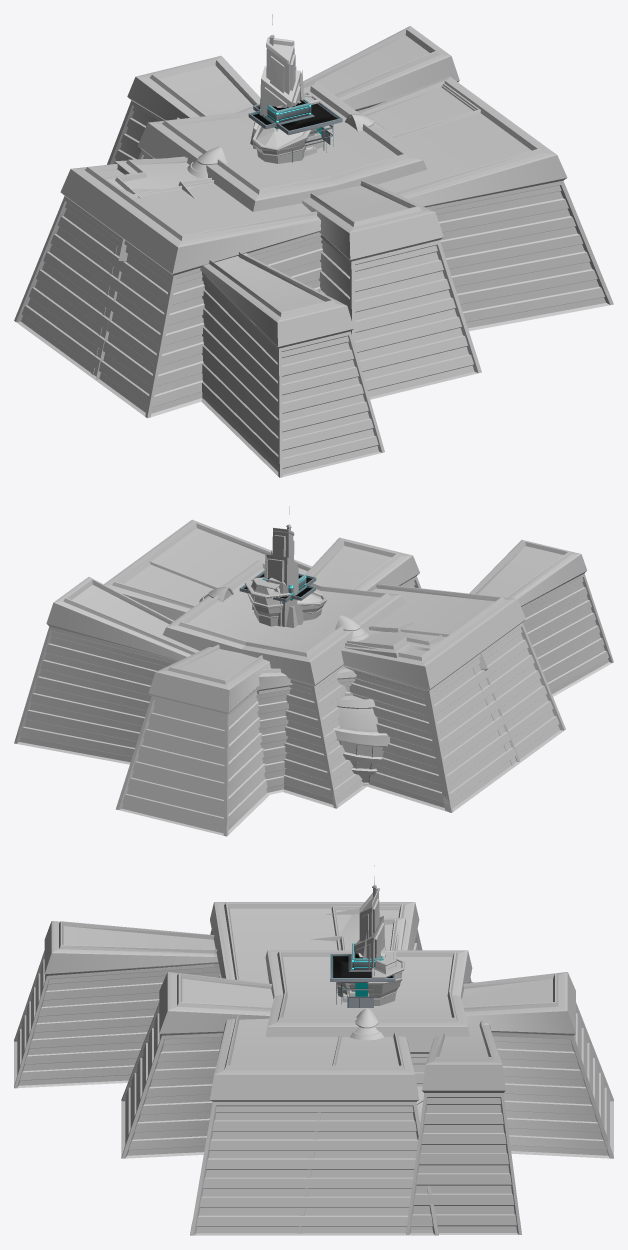
The model's file is Buildings_Collection.FBX.
3 renders of one model, top to bottom at view 1: azimuth 30°, elevation 25°; view 2: azimuth 150°, elevation 25°; view 3: azimuth 270°, elevation 25°, orthographic. The views are drawn at different scales.
Visible parts, largest first — view 1: Building_07, Building_08, Building_04, Building_09, Building_06, Building_Citadel_01, Building_15, Building_10, Building_05, Building_13; view 2: Building_07, Building_04, Building_06, Building_09, Building_08, Building_13, Building_Citadel_01, Building_10, Building_05, Building_15; view 3: Building_07, Building_04, Building_08, Building_06, Building_09, Building_15, Building_Citadel_01, Building_10, Building_13, Building_05.
Boxes of the visible parts, bbox=[...] form: Building_07: bbox=[14, 76, 613, 418]; Building_08: bbox=[105, 157, 384, 477]; Building_04: bbox=[103, 55, 481, 399]; Building_09: bbox=[138, 81, 427, 211]; Building_06: bbox=[96, 26, 459, 379]; Building_Citadel_01: bbox=[253, 14, 300, 148]; Building_15: bbox=[248, 93, 342, 162]; Building_10: bbox=[252, 94, 320, 163]; Building_05: bbox=[91, 83, 480, 374]; Building_13: bbox=[187, 114, 384, 178]; Building_07: bbox=[104, 519, 565, 812]; Building_04: bbox=[115, 537, 446, 836]; Building_06: bbox=[14, 577, 519, 794]; Building_09: bbox=[163, 560, 405, 808]; Building_08: bbox=[344, 539, 613, 696]; Building_13: bbox=[199, 587, 389, 785]; Building_Citadel_01: bbox=[266, 506, 303, 626]; Building_10: bbox=[244, 577, 327, 626]; Building_05: bbox=[119, 560, 513, 811]; Building_15: bbox=[239, 570, 316, 609]; Building_07: bbox=[190, 902, 438, 1235]; Building_04: bbox=[121, 908, 613, 1158]; Building_08: bbox=[14, 908, 405, 1088]; Building_06: bbox=[406, 981, 521, 1234]; Building_09: bbox=[265, 950, 472, 1086]; Building_15: bbox=[330, 943, 395, 1007]; Building_Citadel_01: bbox=[354, 865, 384, 969]; Building_10: bbox=[337, 950, 404, 1005]; Building_13: bbox=[350, 1008, 424, 1122]; Building_05: bbox=[297, 906, 420, 1233].
Size of the model in its own units: 9.69 by 5.5 by 11.54.
